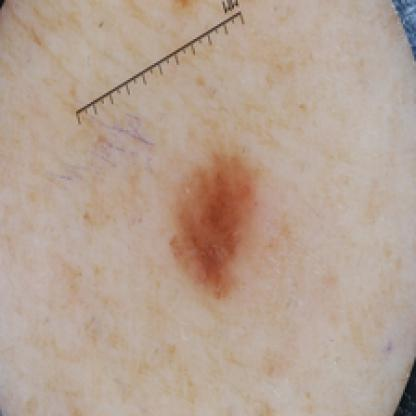malignant: (176, 152, 256, 303)
